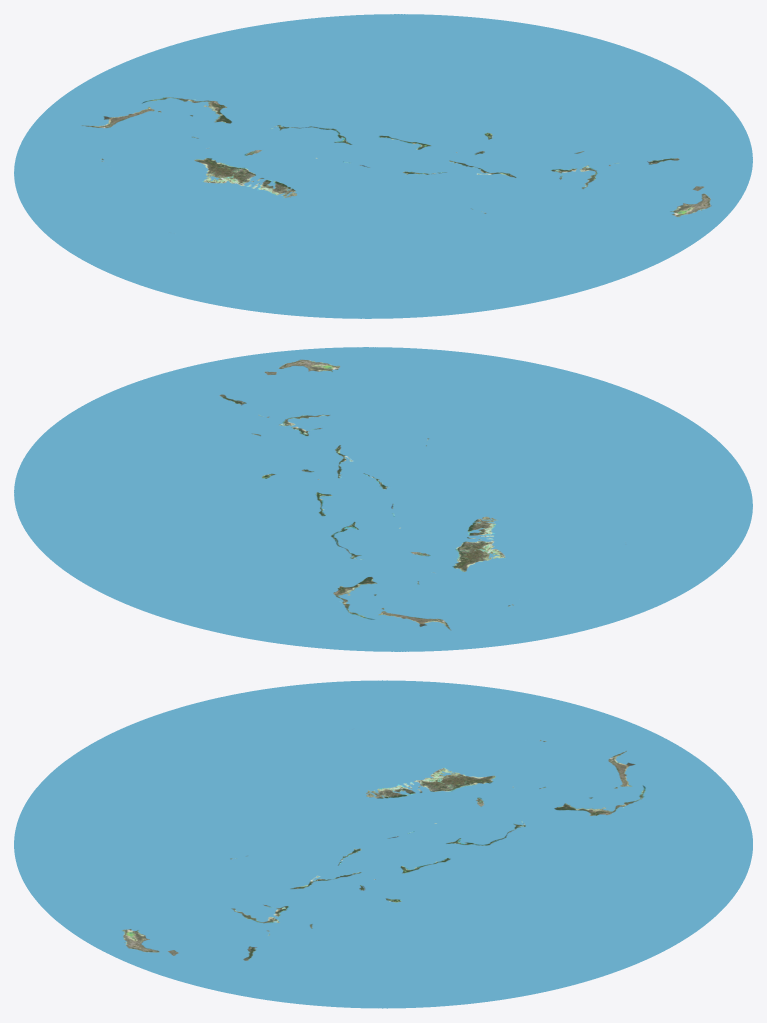
Rendered from BHS-previa-terrain.glb.
The picture shows the model from 3 angles, top to bottom: view 1: azimuth 30°, elevation 25°; view 2: azimuth 150°, elevation 25°; view 3: azimuth 270°, elevation 25°; orthographic projection. The views are drawn at different scales.
Parts seen in each view (by area): view 1: Bahamas; view 2: Bahamas; view 3: Bahamas.
Boxes of the visible parts, x1,y1,x2,y2 form: Bahamas: [14, 14, 752, 318]; Bahamas: [14, 347, 752, 651]; Bahamas: [14, 680, 752, 1008].
Bounding box in the file's own units: 2.5 × 0.0014 × 2.38.
Materials: 1 (1 with a texture image).
